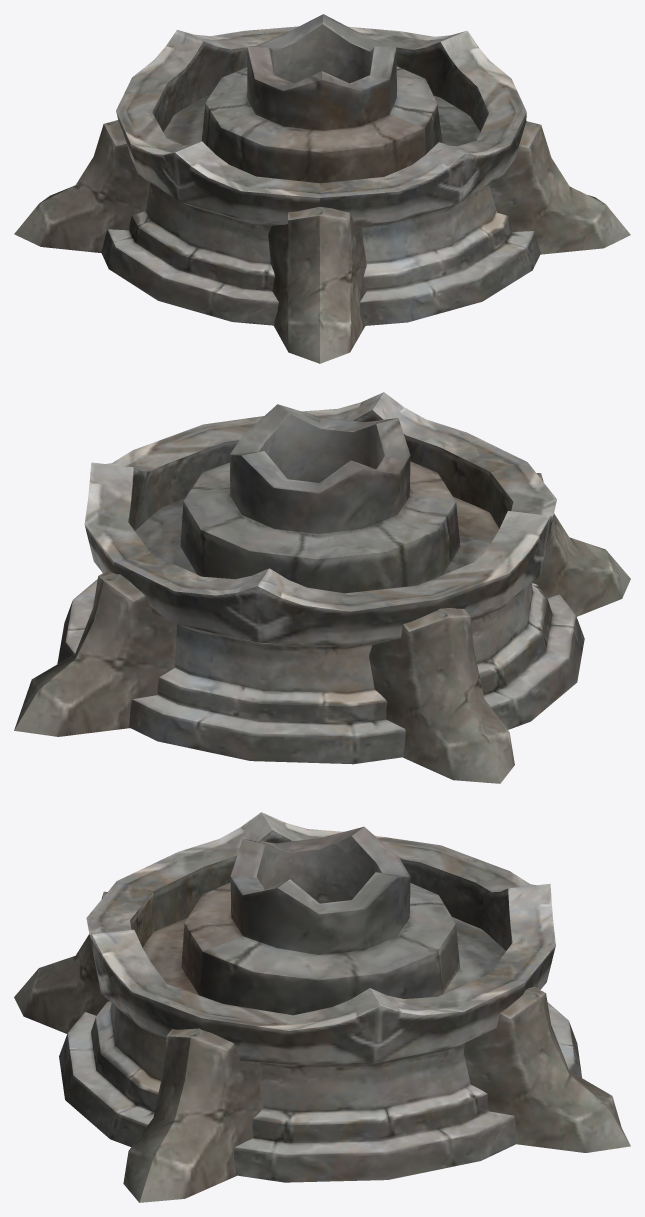
The model's file is Tower_D.fbx.
The picture shows the model from 3 angles, top to bottom: view 1: azimuth 30°, elevation 25°; view 2: azimuth 150°, elevation 25°; view 3: azimuth 270°, elevation 25°; orthographic projection. The views are drawn at different scales.
Parts seen in each view (by area): view 1: Tower_D__1_; view 2: Tower_D__1_; view 3: Tower_D__1_.
Part boxes in pixels (x1,y1,x2,y2): Tower_D__1_: (14, 14, 630, 363); Tower_D__1_: (14, 392, 630, 783); Tower_D__1_: (14, 812, 630, 1202).
Bounding box in the file's own units: 0.8924 × 0.3466 × 0.8947.
